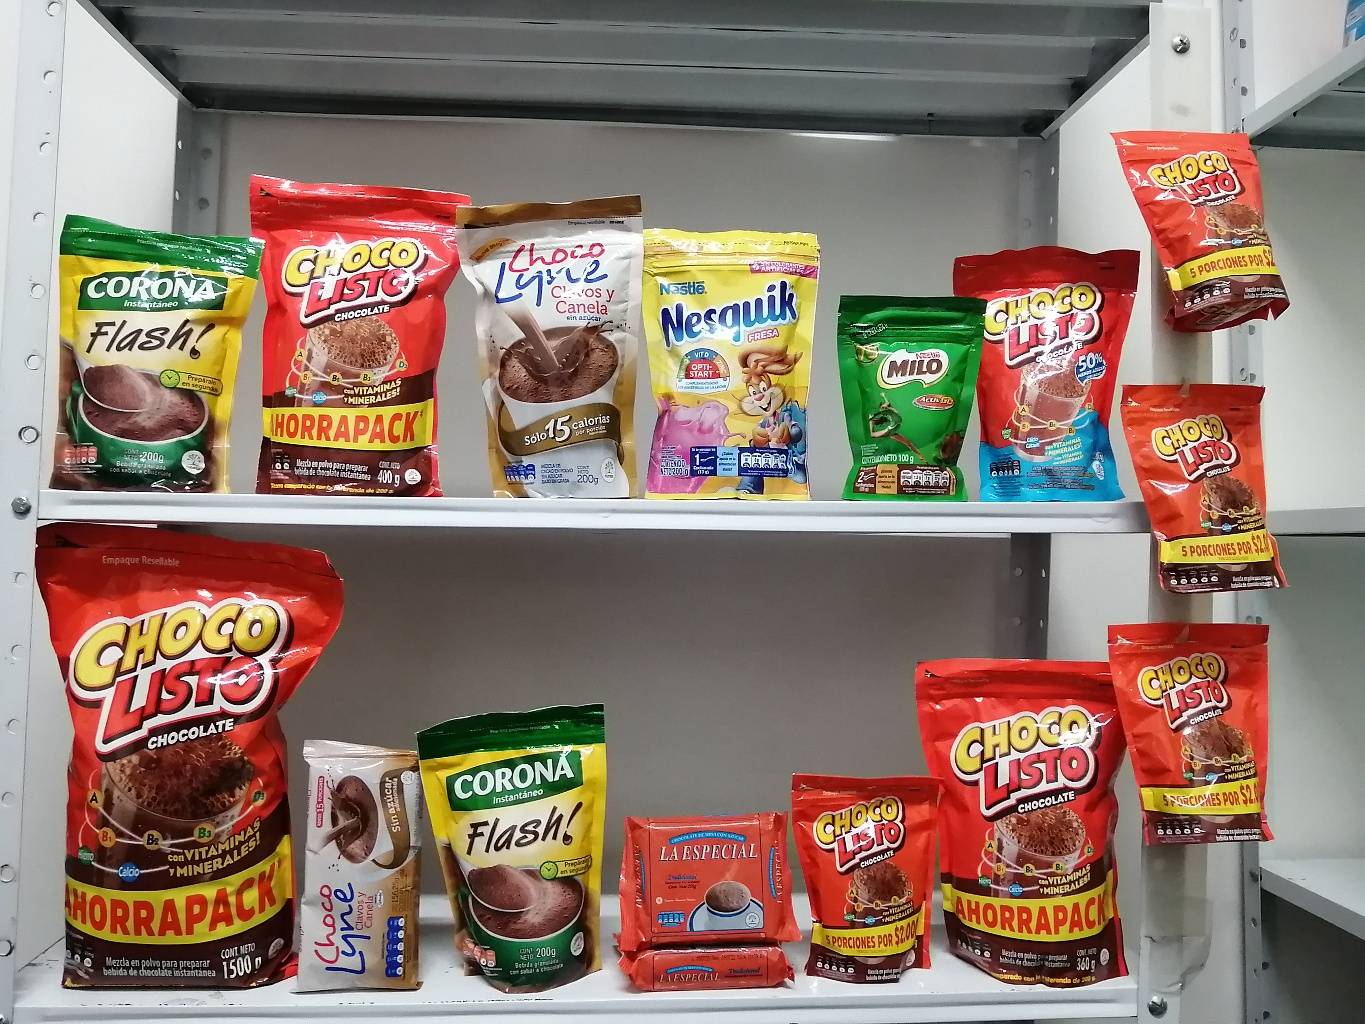COL0170103DYP1,500: (28, 511, 344, 995)
COL0170103DYP10000: (784, 759, 937, 992)
COL0170103DYP36000: (902, 651, 1169, 987)
COL0170103DYP40000: (233, 160, 473, 494)
COL0170104DYP20000: (952, 221, 1147, 506)
COL0170203DYP10000: (827, 288, 981, 509)
COL0170305DYP20000: (636, 212, 835, 506)
